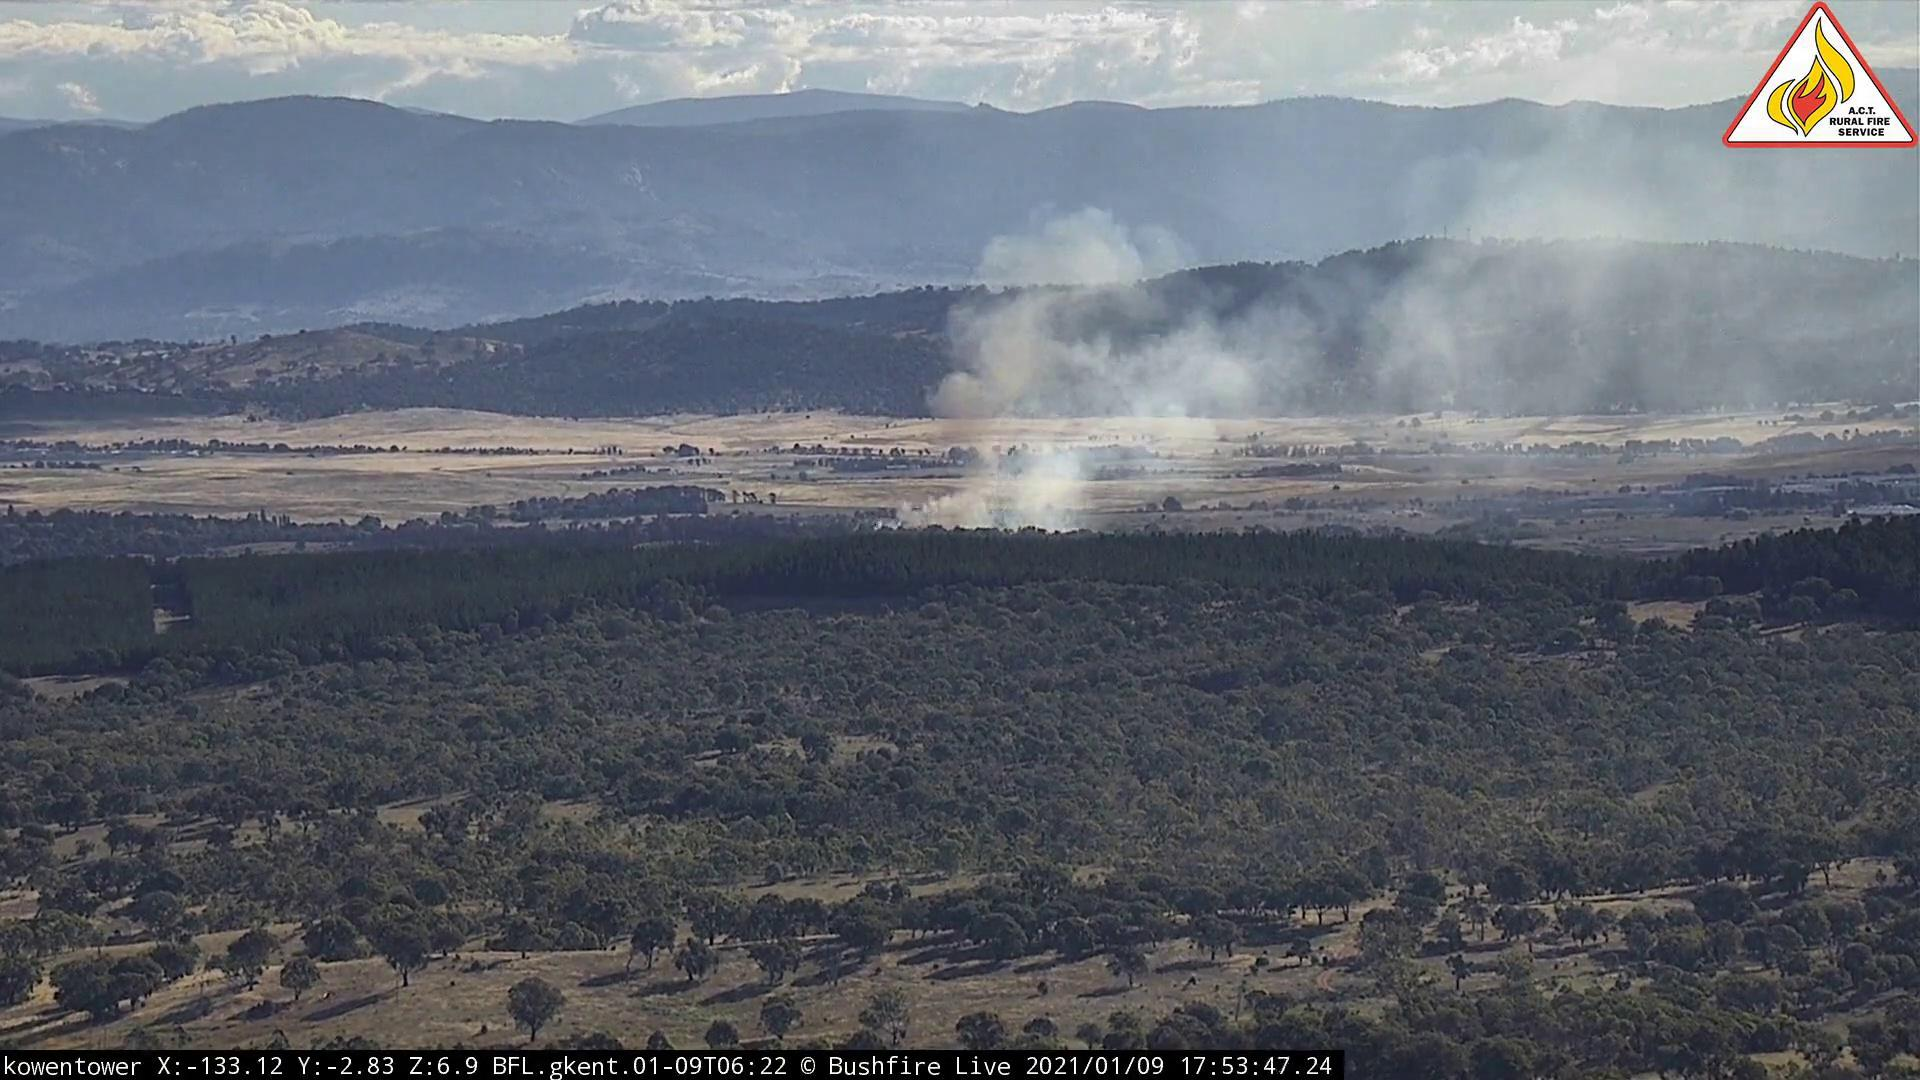Smoke: (901, 99, 1717, 539)
